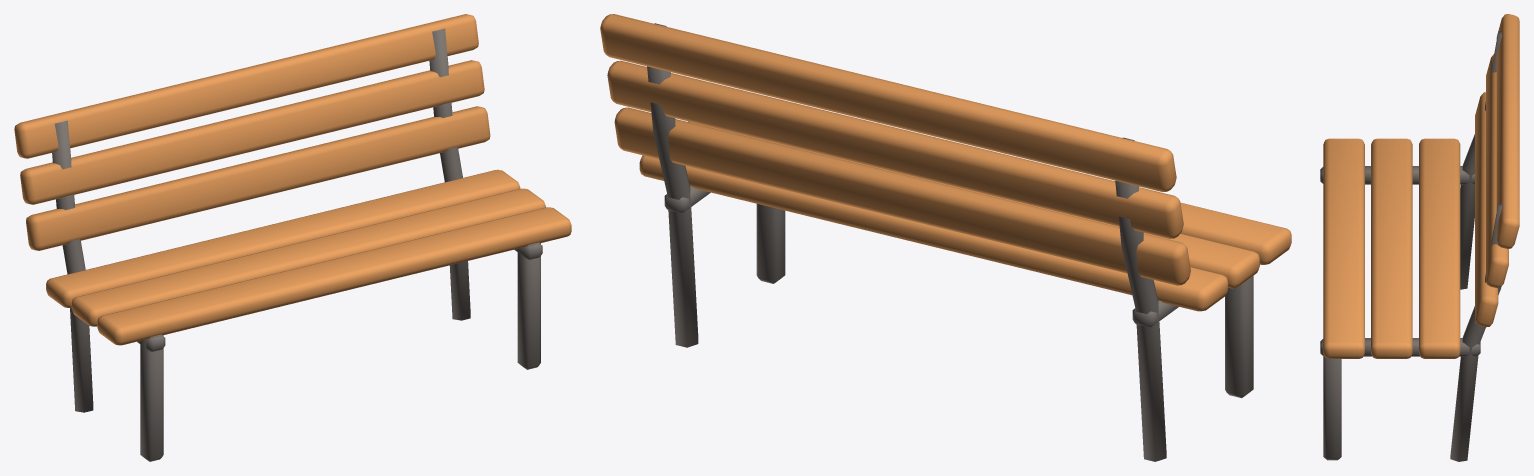
File: bench-backed.glb
The picture shows the model from 3 angles, left to right: view 1: azimuth 30°, elevation 25°; view 2: azimuth 150°, elevation 25°; view 3: azimuth 270°, elevation 25°; orthographic projection. The views are drawn at different scales.
Visible parts, largest first — view 1: body; view 2: body; view 3: body.
Boxes of the visible parts, bbox=[...] form: body: bbox=[14, 14, 571, 461]; body: bbox=[600, 14, 1291, 461]; body: bbox=[1320, 14, 1519, 461].
Bounding box in the file's own units: 1.6 × 0.9184 × 0.6473.
